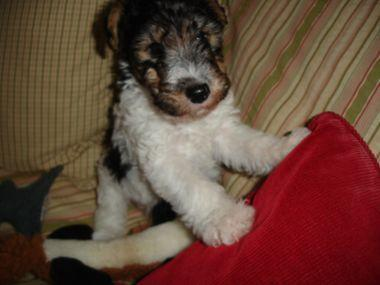wire-haired_fox_terrier: (87, 2, 314, 252)
